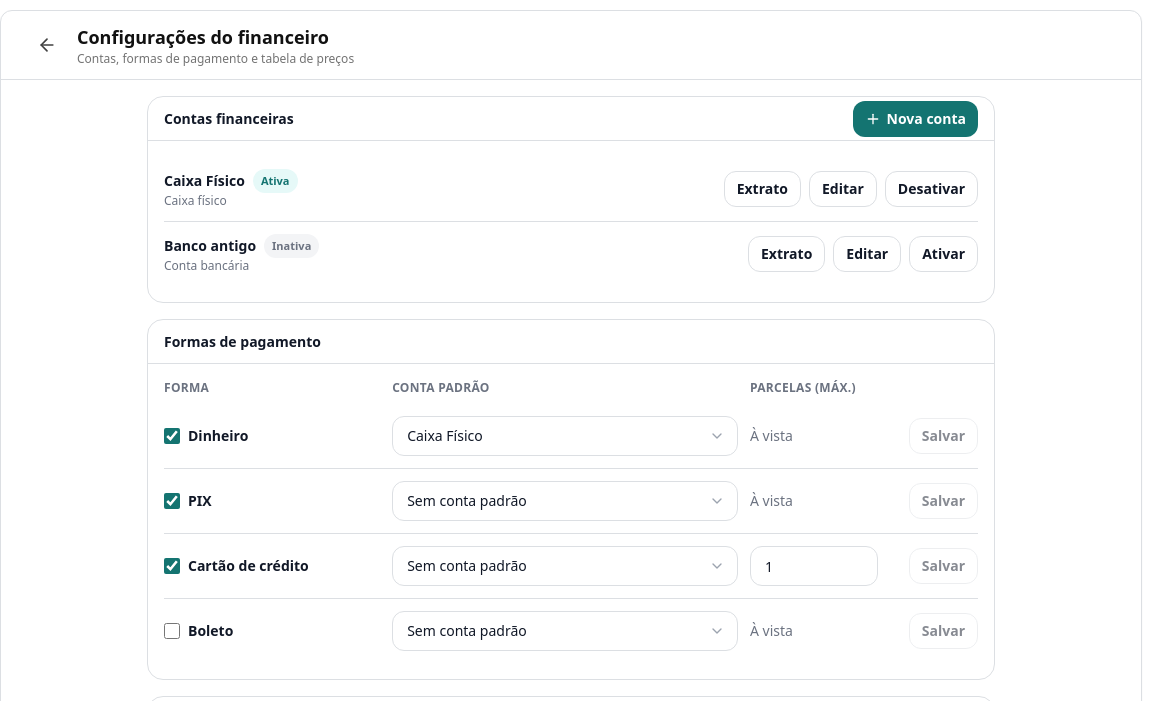
FinanceSettings › abre o extrato da conta
Click the button with aria-label "Extrato Caixa Físico". click: (762, 189)
box: [724, 171, 801, 207]
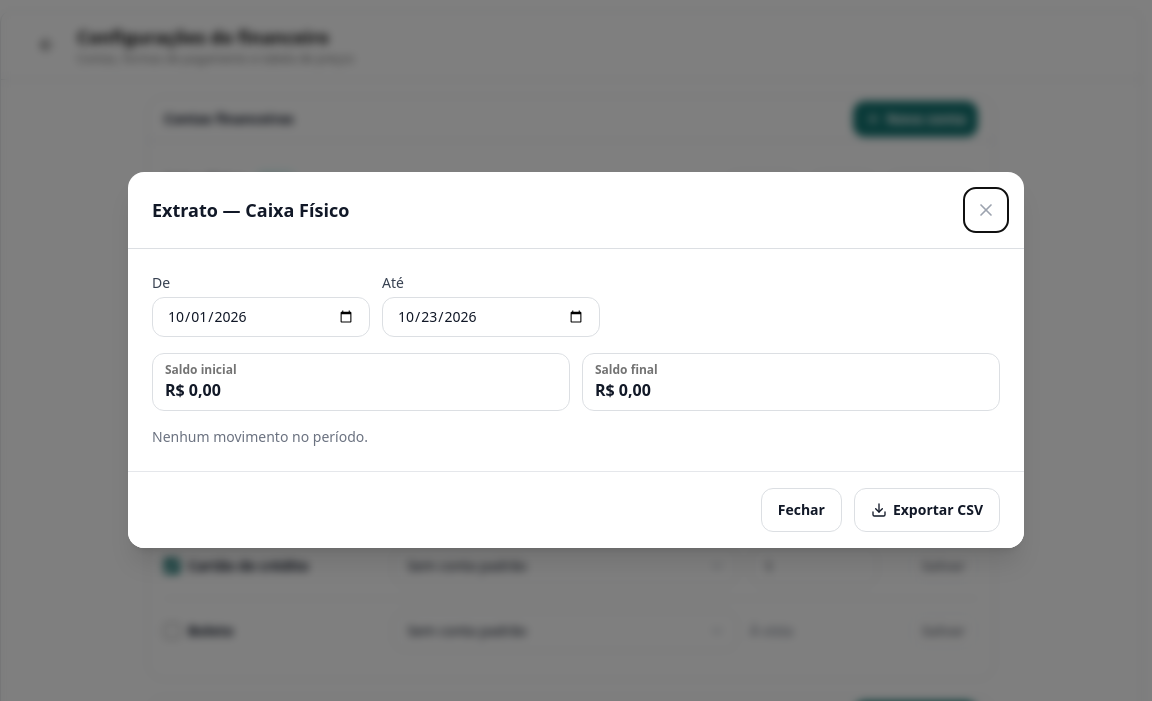
Expected: the heading "Extrato — Caixa Físico" is shown, [152, 196, 349, 224]
